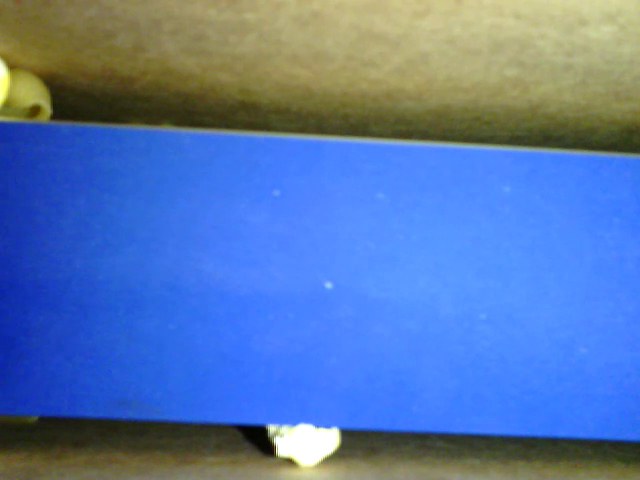shell: (1, 64, 53, 126)
